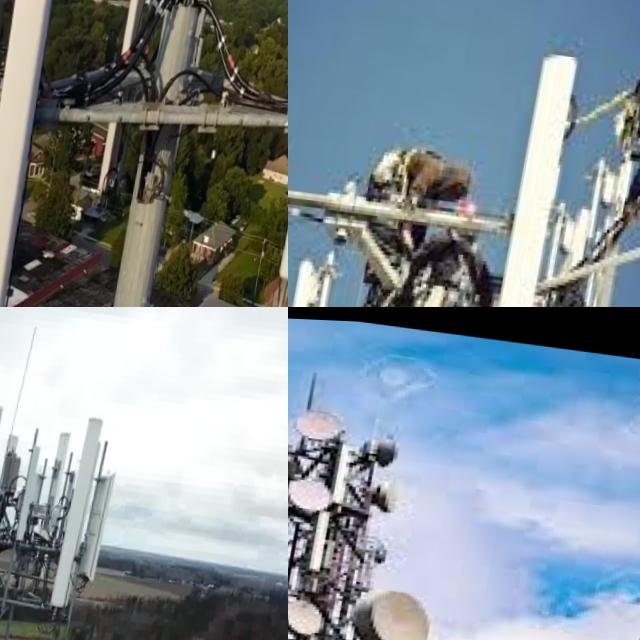GSM Antenna: (491, 36, 591, 307), (0, 0, 55, 307), (96, 0, 169, 221), (55, 400, 111, 613), (166, 0, 234, 171), (79, 453, 126, 587), (42, 421, 79, 540), (306, 503, 341, 585), (20, 441, 46, 533)
Microwave Antenna: (352, 582, 450, 640), (366, 469, 420, 515), (288, 470, 342, 511), (299, 405, 355, 443), (288, 596, 338, 638), (367, 428, 420, 466)
